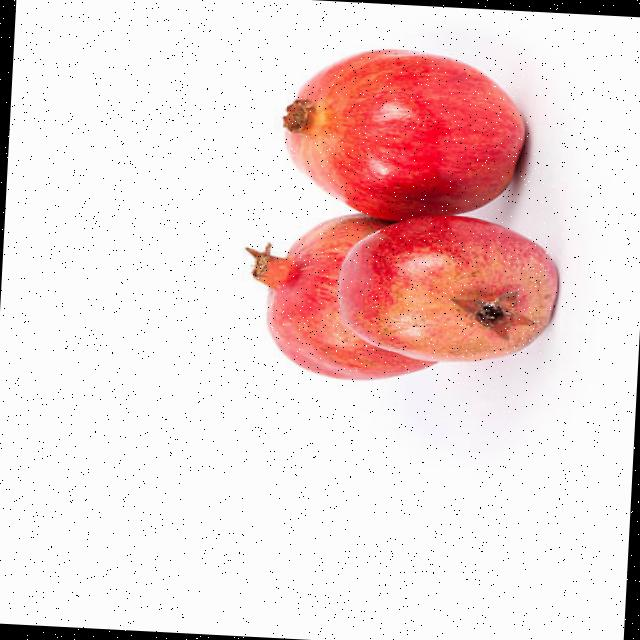Ripe: (269, 31, 534, 224), (332, 209, 566, 369), (230, 204, 353, 378)
